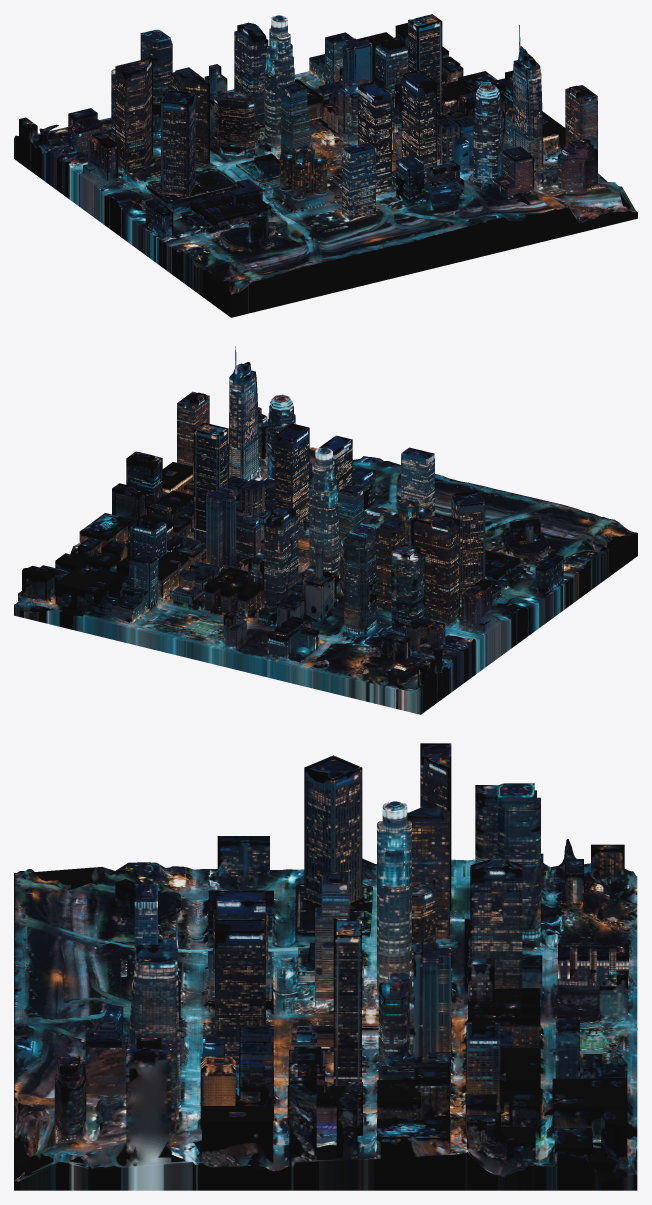
File: nightCity.glb
3 renders of one model, top to bottom at view 1: azimuth 30°, elevation 25°; view 2: azimuth 150°, elevation 25°; view 3: azimuth 270°, elevation 25°, orthographic. The views are drawn at different scales.
Parts seen in each view (by area): view 1: building.003; view 2: building.003; view 3: building.003.
Part boxes in pixels (x1=…): building.003: x1=14, y1=14, x2=637, y2=317; building.003: x1=14, y1=346, x2=637, y2=714; building.003: x1=14, y1=743, x2=637, y2=1190.
Bounding box in the file's own units: 2092 × 821 × 1937.
Materials: 3 (3 with a texture image).
